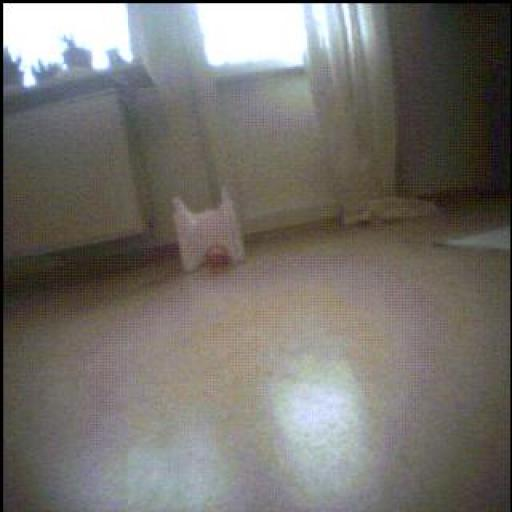Basket: (203, 241, 240, 276)
